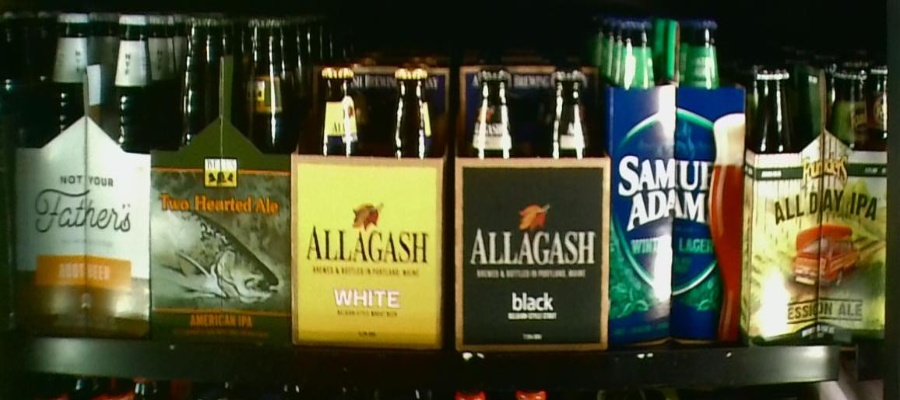bottle: (454, 52, 608, 351), (17, 1, 152, 342), (153, 11, 290, 342), (610, 17, 744, 345), (295, 54, 445, 344), (753, 53, 889, 339)
